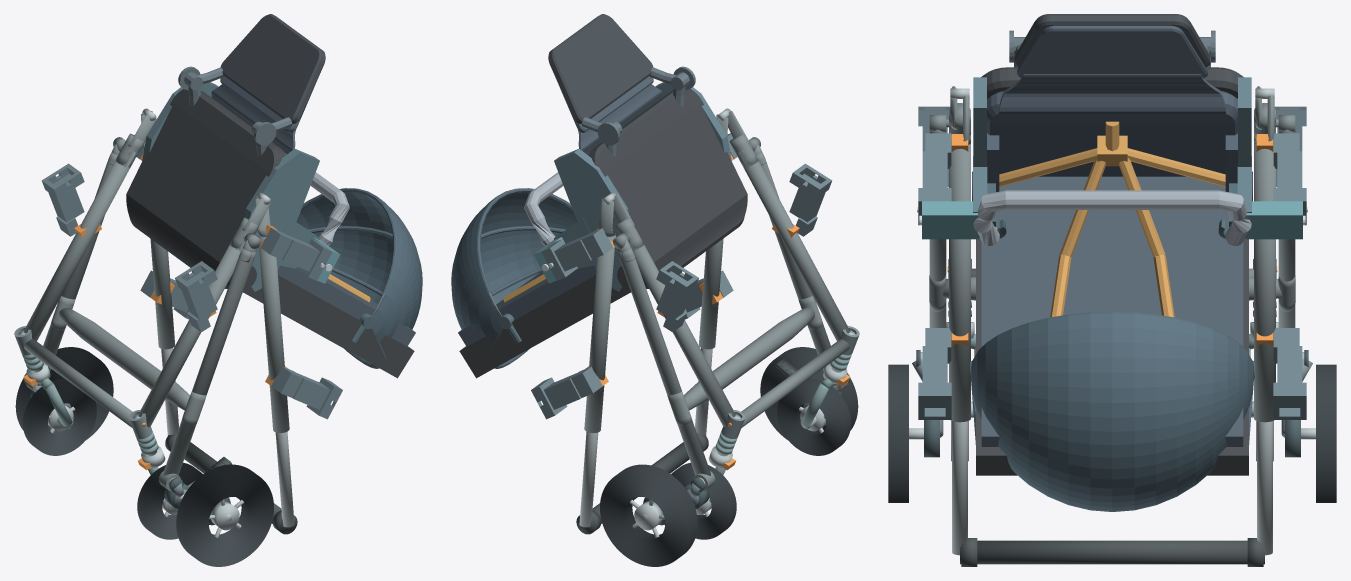
The model's file is S05_w550_state3_wheel_S.glb.
3 views of the same model, side by side, from view 1: azimuth 30°, elevation 25°; view 2: azimuth 150°, elevation 25°; view 3: azimuth 270°, elevation 25° (orthographic). The views are drawn at different scales.
Parts seen in each view (by area): view 1: S05_Cabin, RL_tire.002, S05_Cabin_Mount_M, FR_tire.002, main_lower_1.003, V46_rear_leg_-1.003, main_upper_-1.003, V46_rearbar.003, main_lower_-1.003, RR_tire.002, FL_tire.002, Universal_Cabin_Receiver_M_-1 (+12 smaller); view 2: S05_Cabin, RR_tire.002, S05_Cabin_Mount_M, FL_tire.002, main_lower_-1.003, V46_rear_leg_1.003, main_upper_1.003, V46_rearbar.003, main_lower_1.003, FR_tire.002, RL_tire.002, Universal_Cabin_Receiver_H_1 (+13 smaller); view 3: S05_Cabin, S05_Cabin_Mount_M, round_handle.002, main_upper_1.003, main_upper_-1.003, RL_tire.002, RR_tire.002, Universal_Cabin_Receiver_H_1, Universal_Cabin_Receiver_H_-1, Universal_Cabin_Receiver_M_-1, Universal_Cabin_Receiver_M_1, handle_slider_1.002 (+7 smaller).
Boxes of the visible parts, bbox=[...] form: S05_Cabin: bbox=[126, 14, 422, 378]; RL_tire.002: bbox=[176, 464, 273, 566]; S05_Cabin_Mount_M: bbox=[142, 82, 340, 291]; FR_tire.002: bbox=[23, 378, 96, 455]; main_lower_1.003: bbox=[24, 151, 136, 341]; V46_rear_leg_-1.003: bbox=[163, 248, 255, 475]; main_upper_-1.003: bbox=[258, 234, 289, 433]; V46_rearbar.003: bbox=[59, 307, 189, 410]; main_lower_-1.003: bbox=[138, 242, 244, 427]; RR_tire.002: bbox=[15, 347, 113, 439]; FL_tire.002: bbox=[137, 462, 202, 539]; Universal_Cabin_Receiver_M_-1: bbox=[260, 227, 332, 280]; S05_Cabin: bbox=[451, 14, 747, 378]; RR_tire.002: bbox=[600, 464, 697, 566]; S05_Cabin_Mount_M: bbox=[533, 82, 731, 291]; FL_tire.002: bbox=[777, 378, 850, 455]; main_lower_-1.003: bbox=[737, 151, 849, 341]; V46_rear_leg_1.003: bbox=[618, 248, 710, 475]; main_upper_1.003: bbox=[584, 233, 615, 433]; V46_rearbar.003: bbox=[684, 307, 814, 410]; main_lower_1.003: bbox=[629, 242, 735, 427]; FR_tire.002: bbox=[671, 462, 736, 539]; RL_tire.002: bbox=[760, 347, 858, 439]; Universal_Cabin_Receiver_H_1: bbox=[531, 366, 602, 419]; S05_Cabin: bbox=[970, 14, 1254, 511]; S05_Cabin_Mount_M: bbox=[917, 77, 1307, 239]; round_handle.002: bbox=[960, 540, 1264, 564]; main_upper_1.003: bbox=[1254, 144, 1275, 422]; main_upper_-1.003: bbox=[949, 144, 970, 422]; RL_tire.002: bbox=[888, 364, 908, 502]; RR_tire.002: bbox=[1316, 364, 1336, 502]; Universal_Cabin_Receiver_H_1: bbox=[1273, 328, 1306, 419]; Universal_Cabin_Receiver_H_-1: bbox=[918, 328, 951, 419]; Universal_Cabin_Receiver_M_-1: bbox=[918, 133, 951, 225]; Universal_Cabin_Receiver_M_1: bbox=[1273, 133, 1306, 225]; handle_slider_1.002: bbox=[1257, 421, 1272, 555].
Bounding box in the file's own units: 0.7456 × 0.944 × 0.6471.
